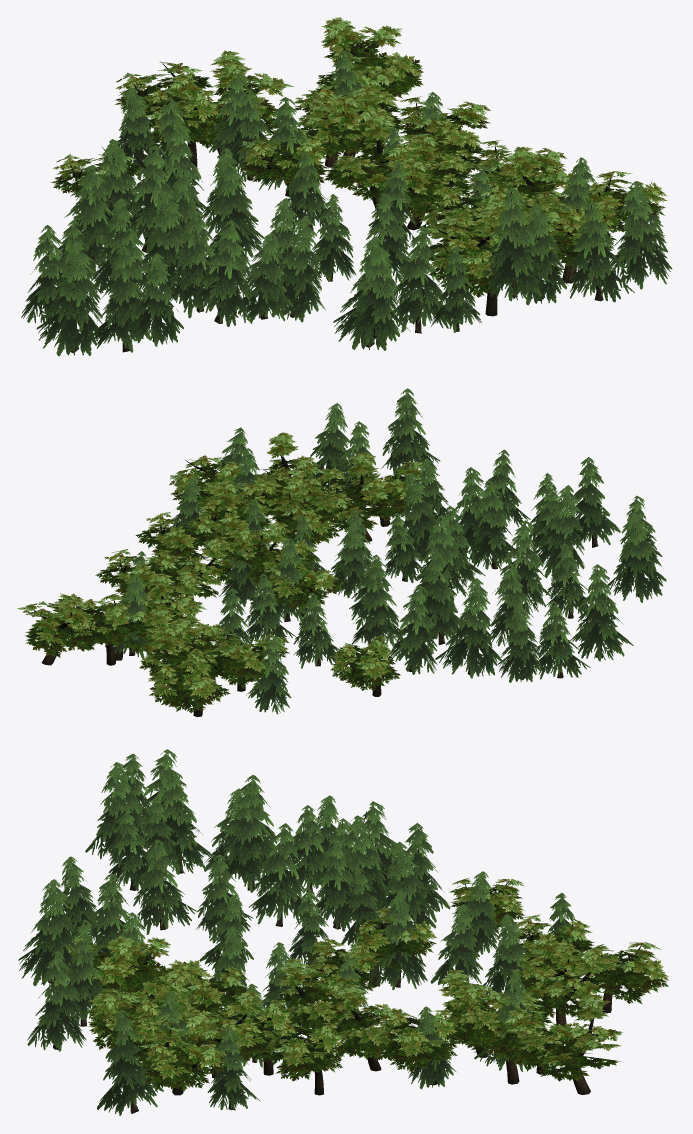
The model's file is Trees_07.fbx.
The picture shows the model from 3 angles, top to bottom: view 1: azimuth 30°, elevation 25°; view 2: azimuth 150°, elevation 25°; view 3: azimuth 270°, elevation 25°; orthographic projection. The views are drawn at different scales.
Parts seen in each view (by area): view 1: Trees_016; view 2: Trees_016; view 3: Trees_016.
Boxes of the visible parts, <box> form: Trees_016: <box>21,17,672,356</box>; Trees_016: <box>17,388,666,717</box>; Trees_016: <box>18,749,669,1115</box>.
Size of the model in its own units: 7080 by 1947 by 7287.
